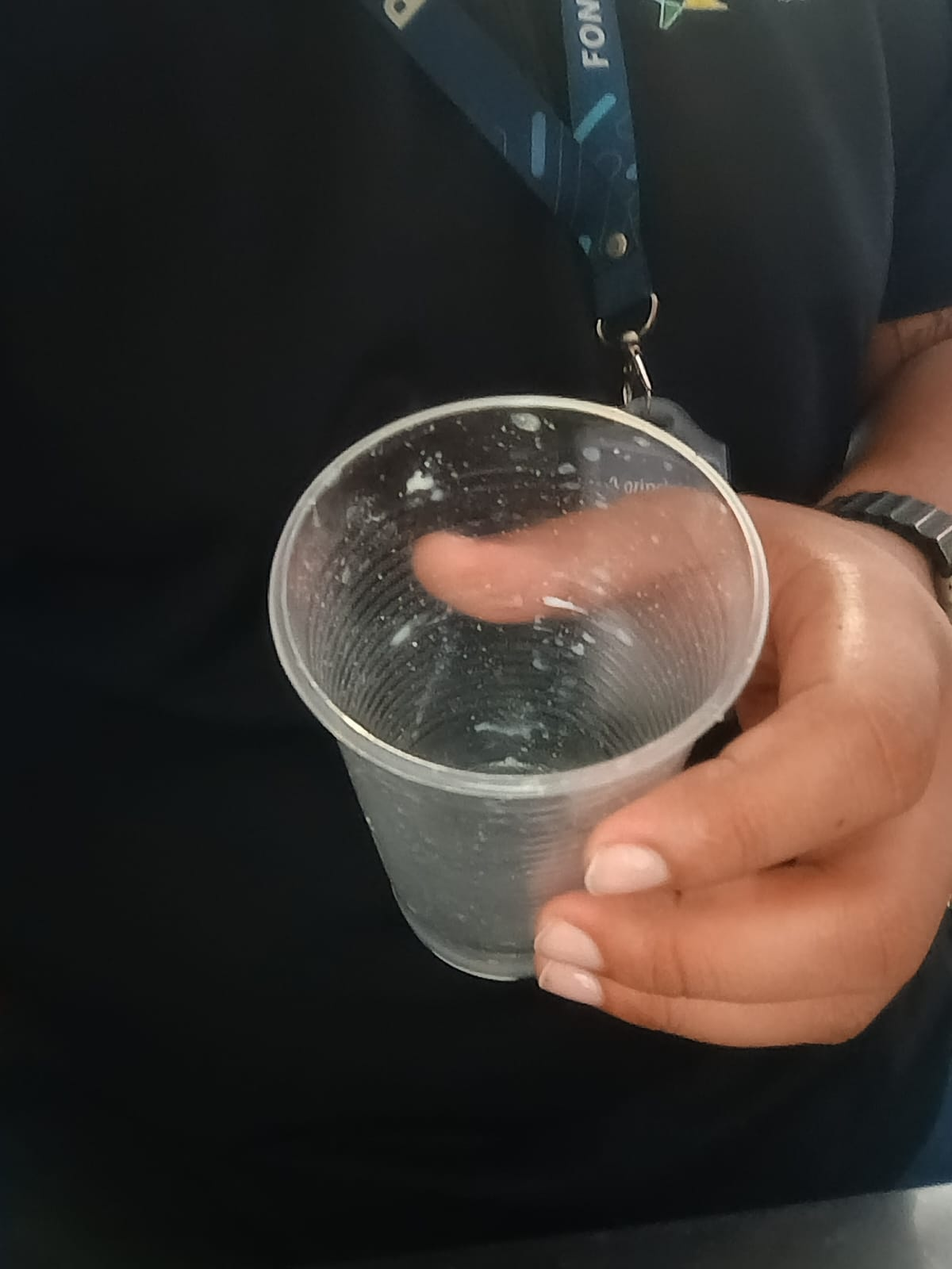Plastico: (269, 395, 772, 981)
